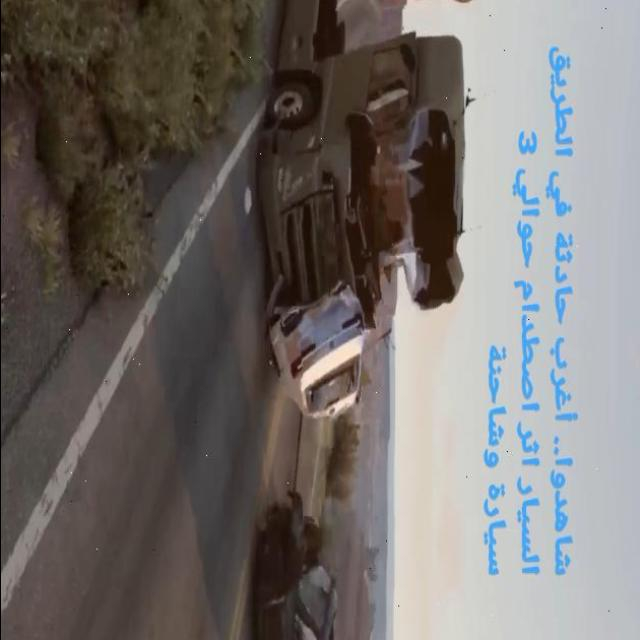accident: (256, 0, 476, 411)
